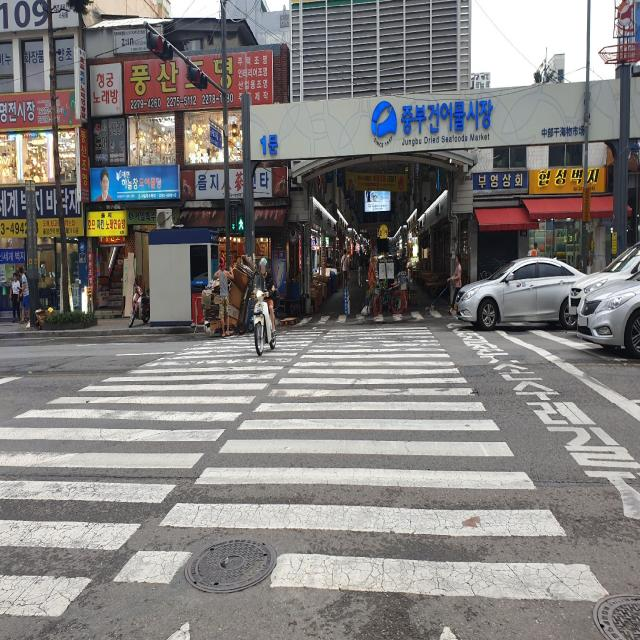초록불: (231, 200, 245, 237)
횡단보도: (2, 320, 613, 638)
